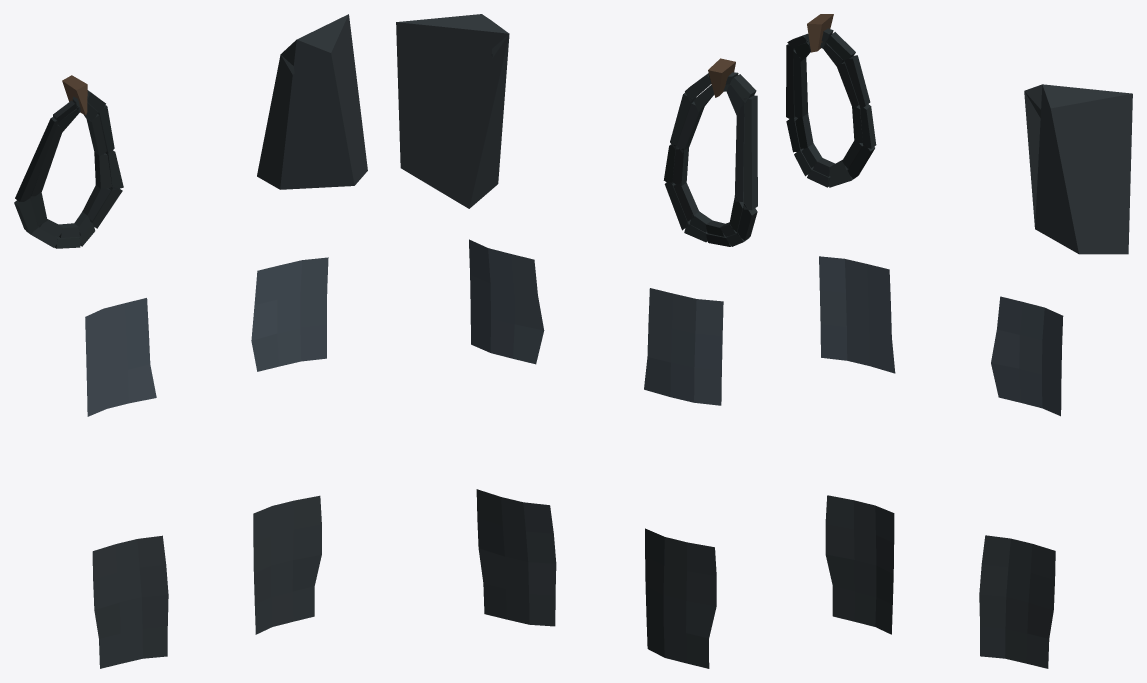
File: lwf_sound_female_overlay_v2.glb
3 views of the same model, side by side, from view 1: azimuth 30°, elevation 25°; view 2: azimuth 150°, elevation 25°; view 3: azimuth 330°, elevation 25° (orthographic). The views are drawn at different scales.
Visible parts, largest first — view 1: LWF_Sound_Female_Overlay; view 2: LWF_Sound_Female_Overlay; view 3: LWF_Sound_Female_Overlay.
Part boxes in pixels (x1=…): LWF_Sound_Female_Overlay: x1=14, y1=14, x2=367, y2=668; LWF_Sound_Female_Overlay: x1=396, y1=14, x2=757, y2=668; LWF_Sound_Female_Overlay: x1=786, y1=14, x2=1132, y2=668.
Bounding box in the file's own units: 0.3407 × 0.5537 × 0.0739.
Materials: 1 (1 with a texture image).
